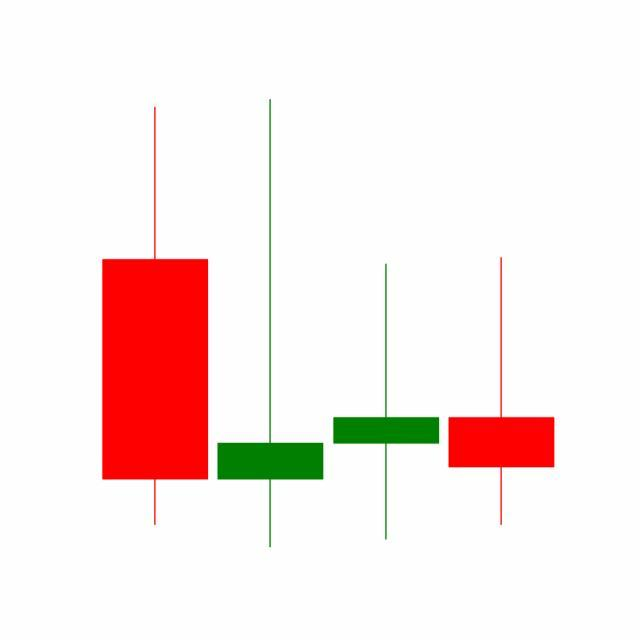Spinning Top: (444, 255, 560, 529)
